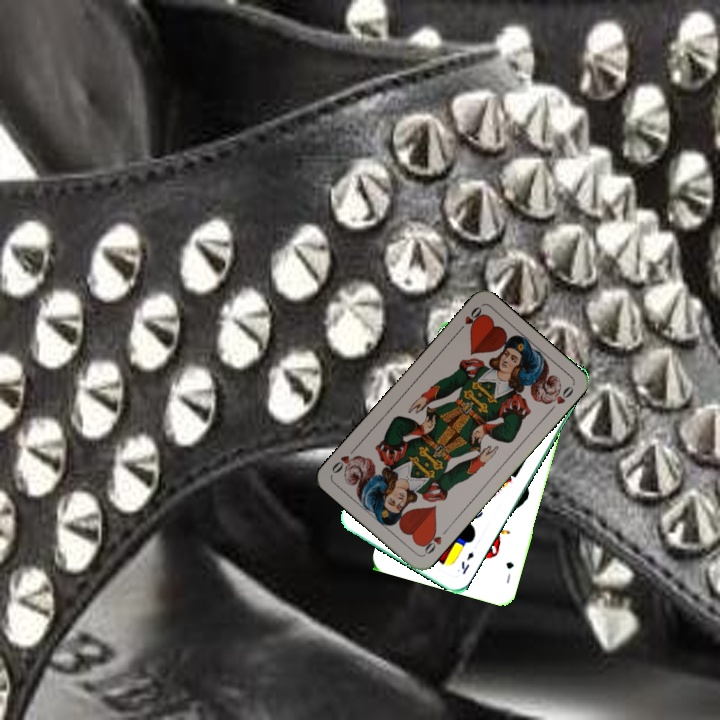EK: (457, 548, 476, 577)
GU: (502, 558, 517, 586)
HO: (418, 524, 451, 558), (453, 302, 485, 336)
